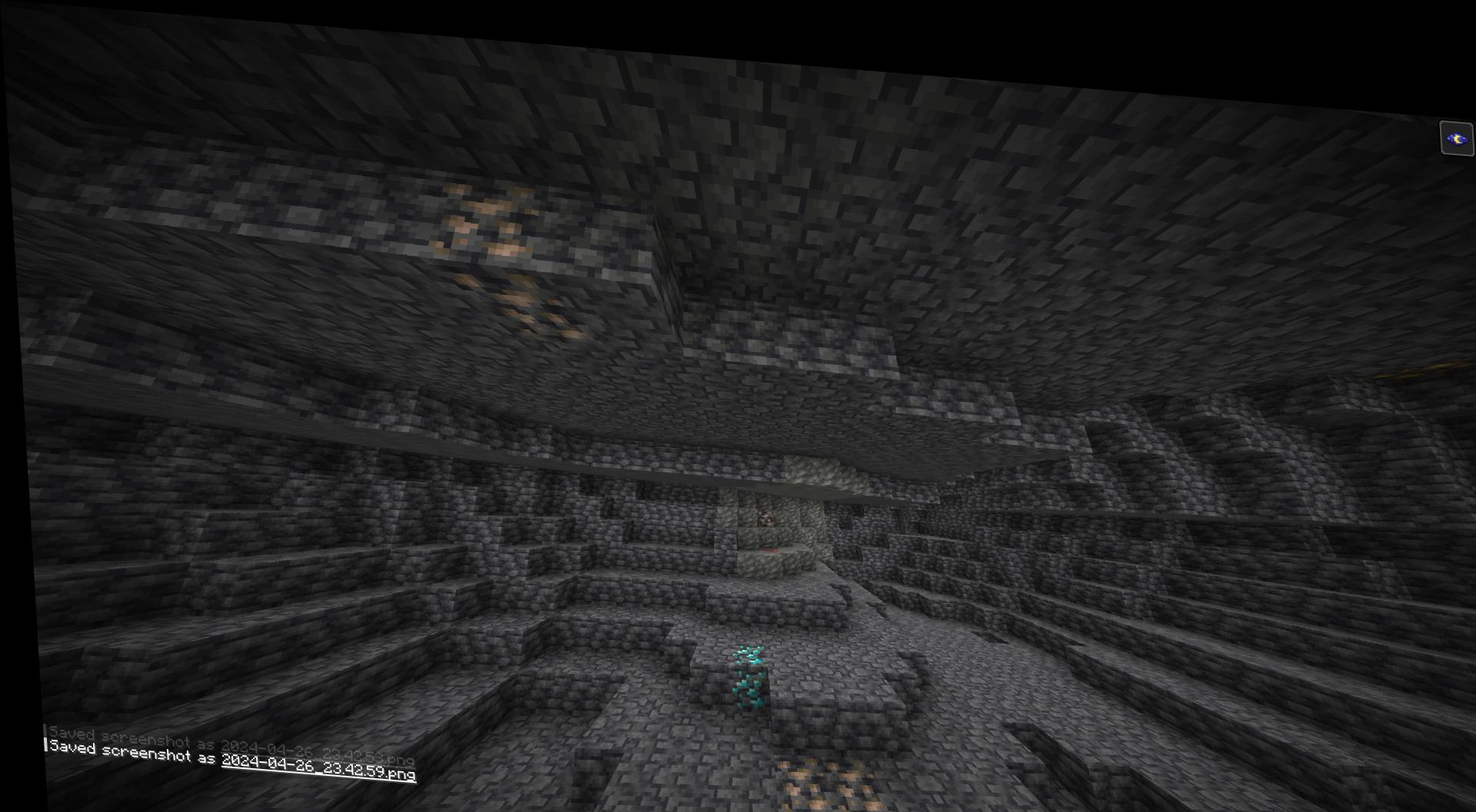diamond ore: (720, 656, 764, 694), (727, 630, 759, 656)
iron ore: (424, 163, 532, 257), (461, 254, 578, 336), (813, 741, 874, 804), (767, 740, 823, 803), (746, 493, 774, 517)
